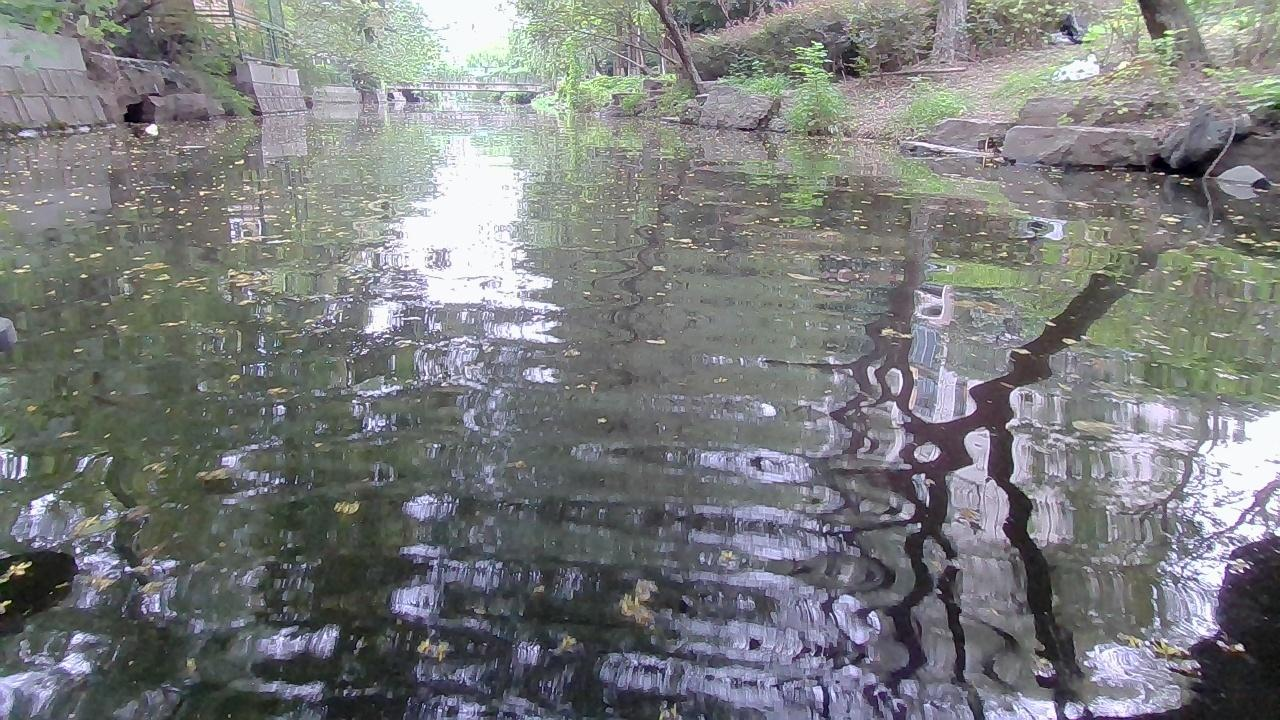bottle: (142, 122, 157, 132)
